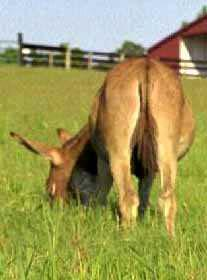donkey: (16, 56, 194, 240)
